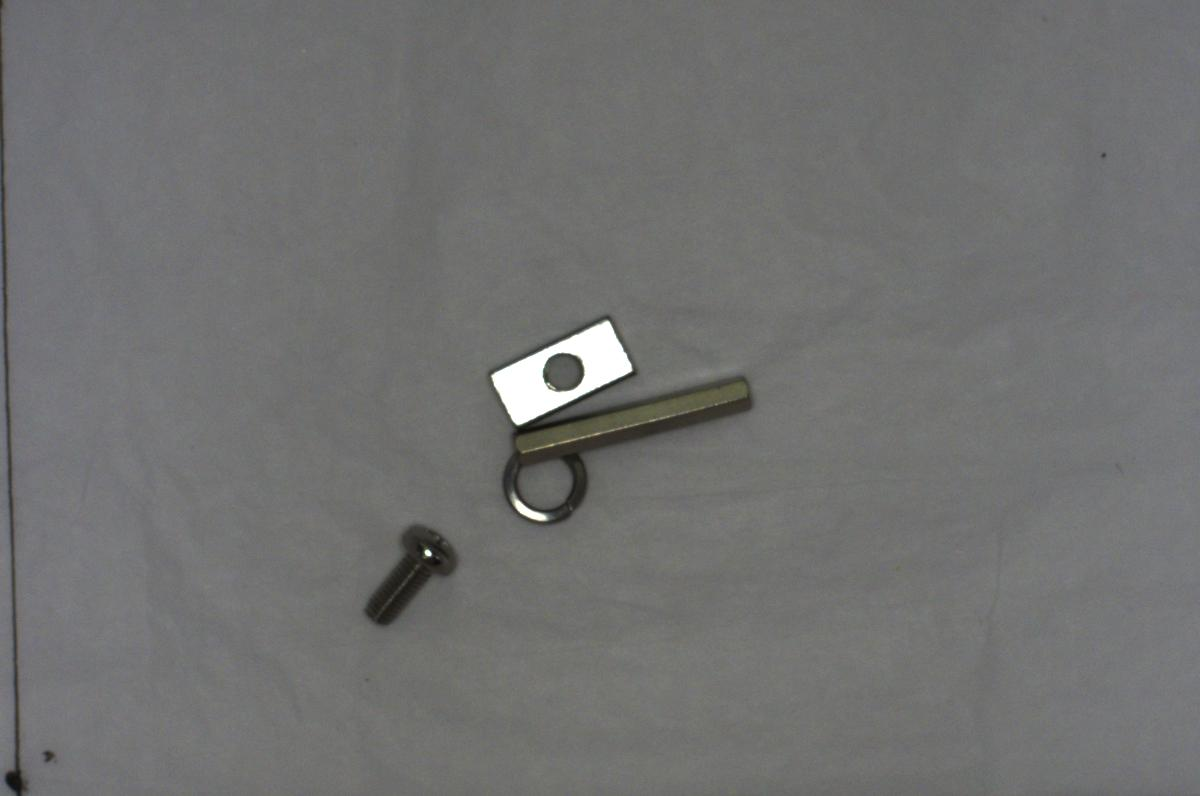Double hexagonal column: (514, 373, 759, 461)
Rectangular nut: (485, 310, 633, 427)
Round head screw: (359, 514, 460, 628)
Spring washer: (499, 455, 591, 527)
